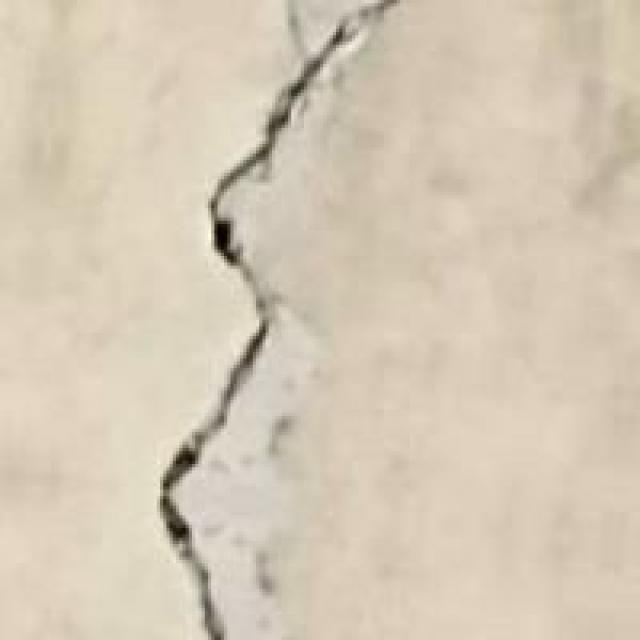crack: (109, 0, 387, 637)
